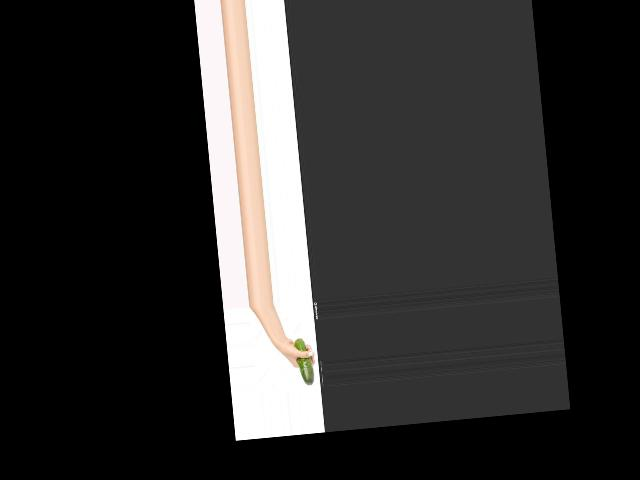cucumber: (294, 338, 315, 386)
